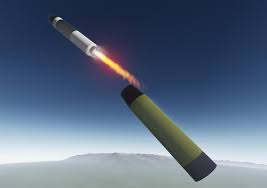ten_lua: (46, 12, 112, 70)
